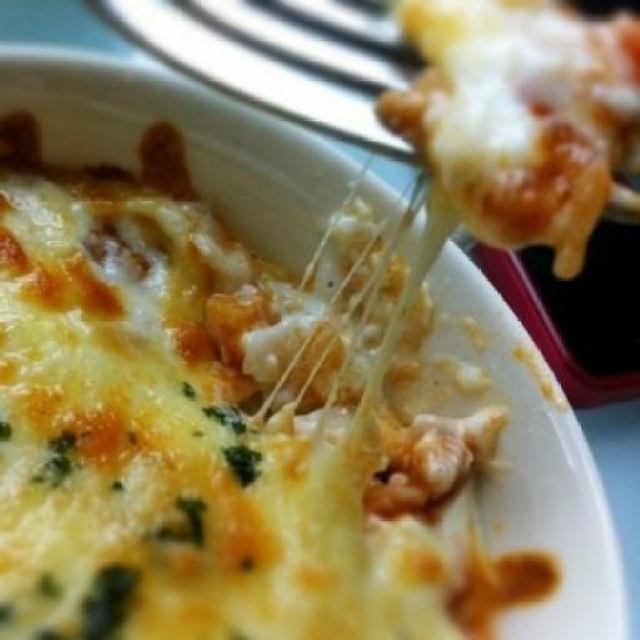Lasagna: (10, 136, 492, 639)
